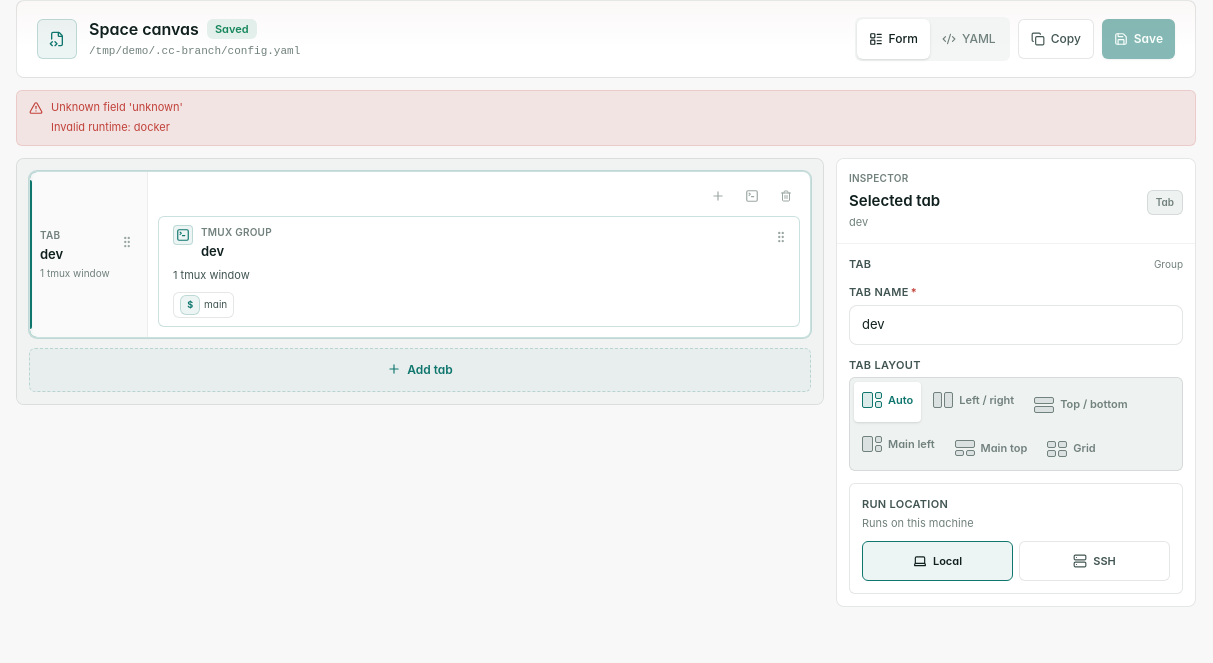
Scenario: ConfigEditor diagnostics › keeps non-object YAML in YAML mode instead of replacing the form with defaults
Step 1. Click the button "YAML" → (969, 39), box [930,19,1008,59]
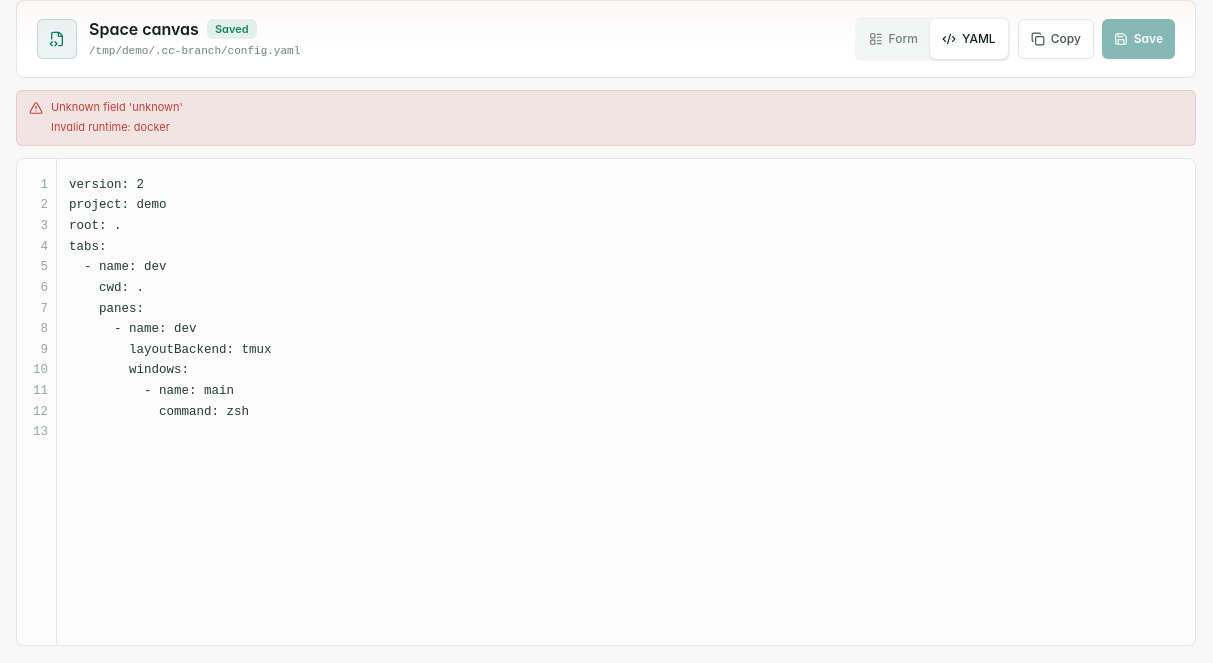
Step 2. Replace the text in the text box named "Configuration editor" with "[] " → (626, 402), box [57,159,1195,645]
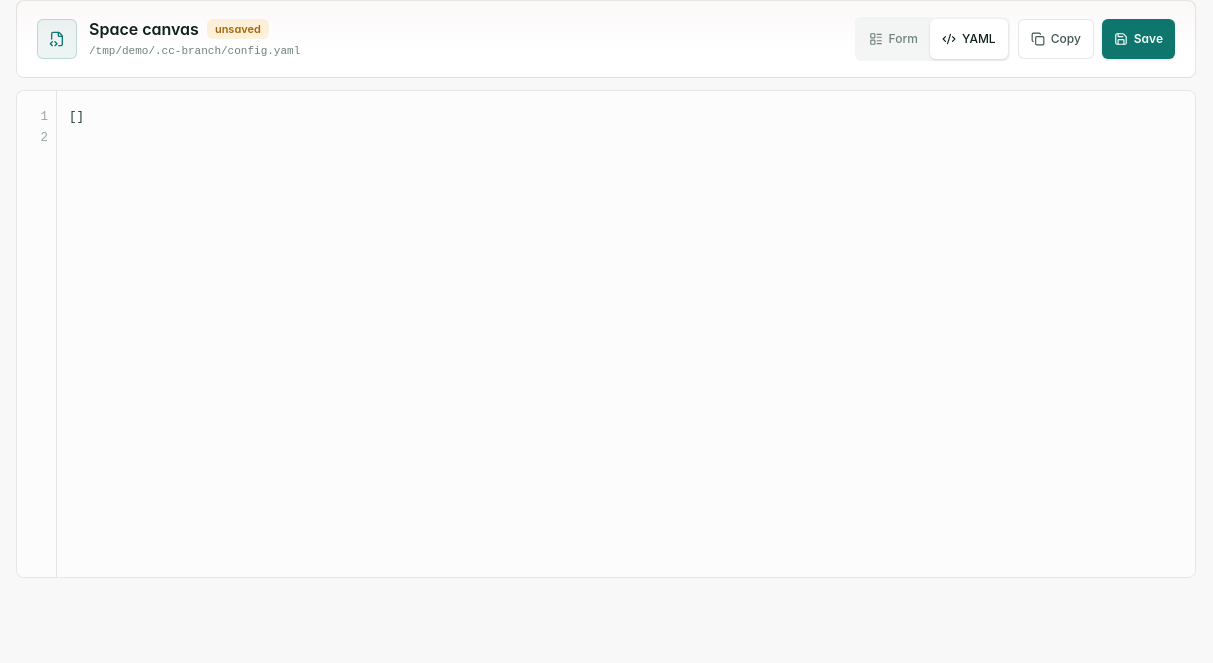
Step 3. Click the button "Form" → (893, 39), box [857,19,930,59]
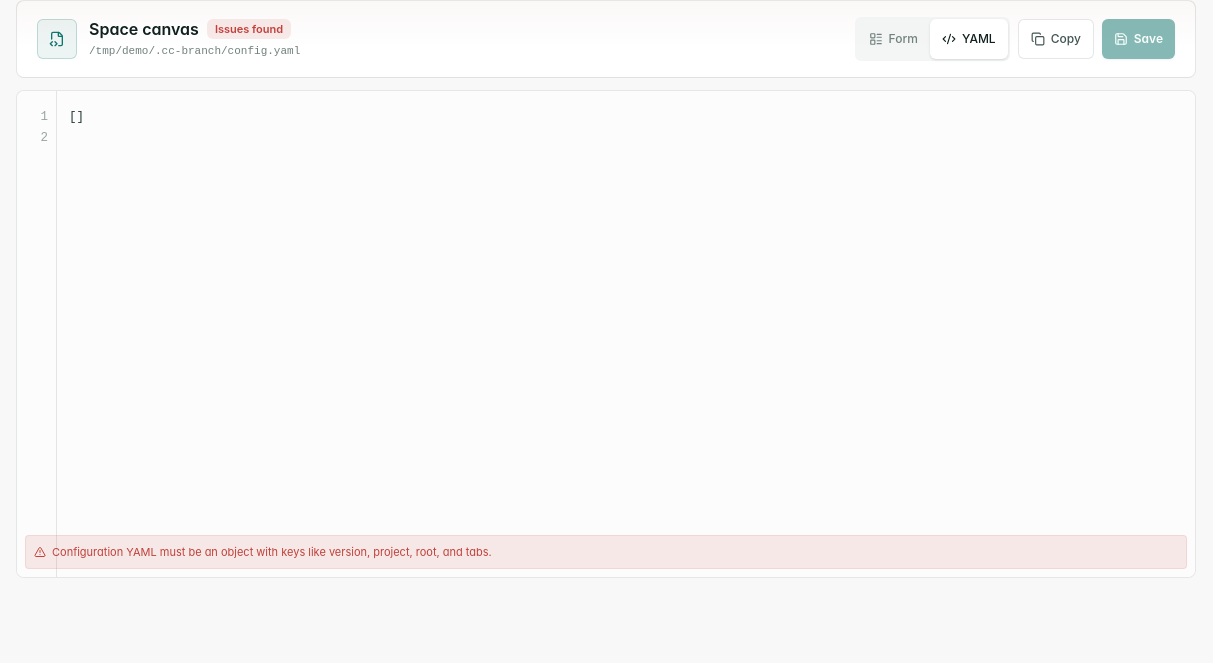
Expected: the text "Configuration YAML must be an object with keys like version, project, root, and tabs." is shown, [52,544,492,558]
